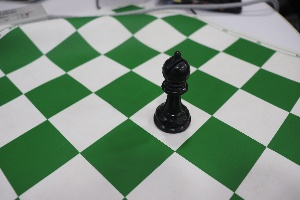black_bishop: (152, 44, 199, 139)
